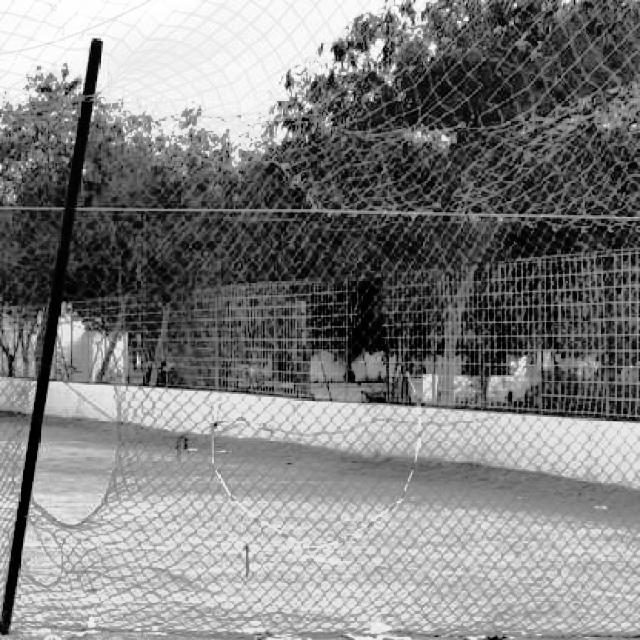anomaly-fence: (0, 258, 151, 613)
